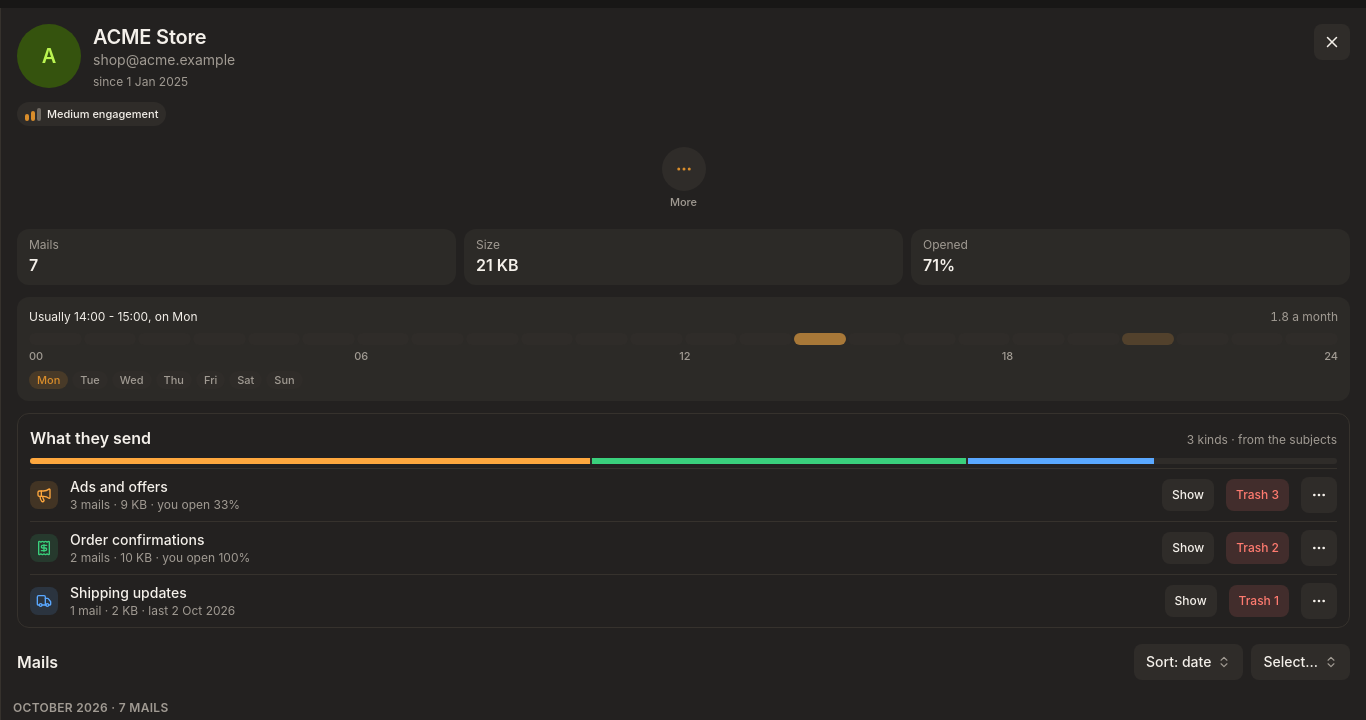
Test: Show › another kind replaces it; the same kind again turns it off
Click the button with aria-label "Show only Ads and offers". click: click(1188, 494)
box: [1162,478,1214,510]
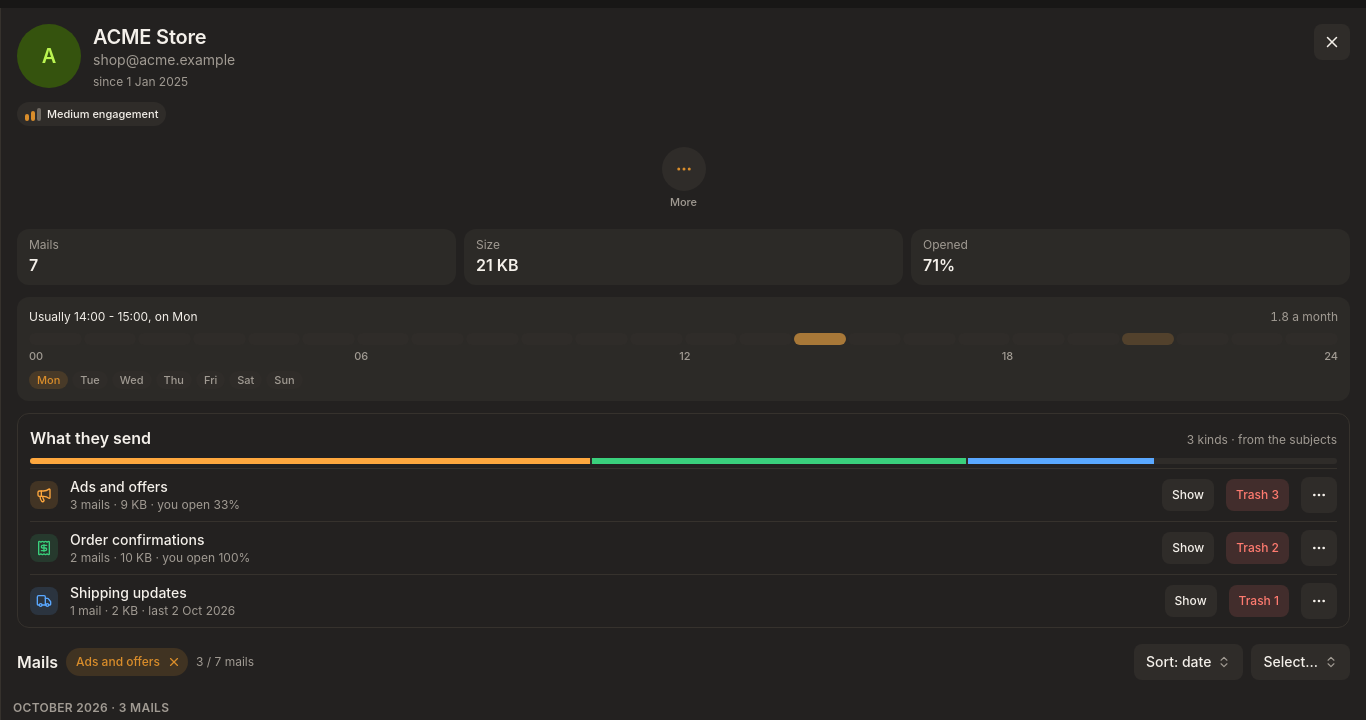
Click the button with aria-label "Show only Order confirmations". click: click(1188, 548)
box: [1162,532,1214,564]
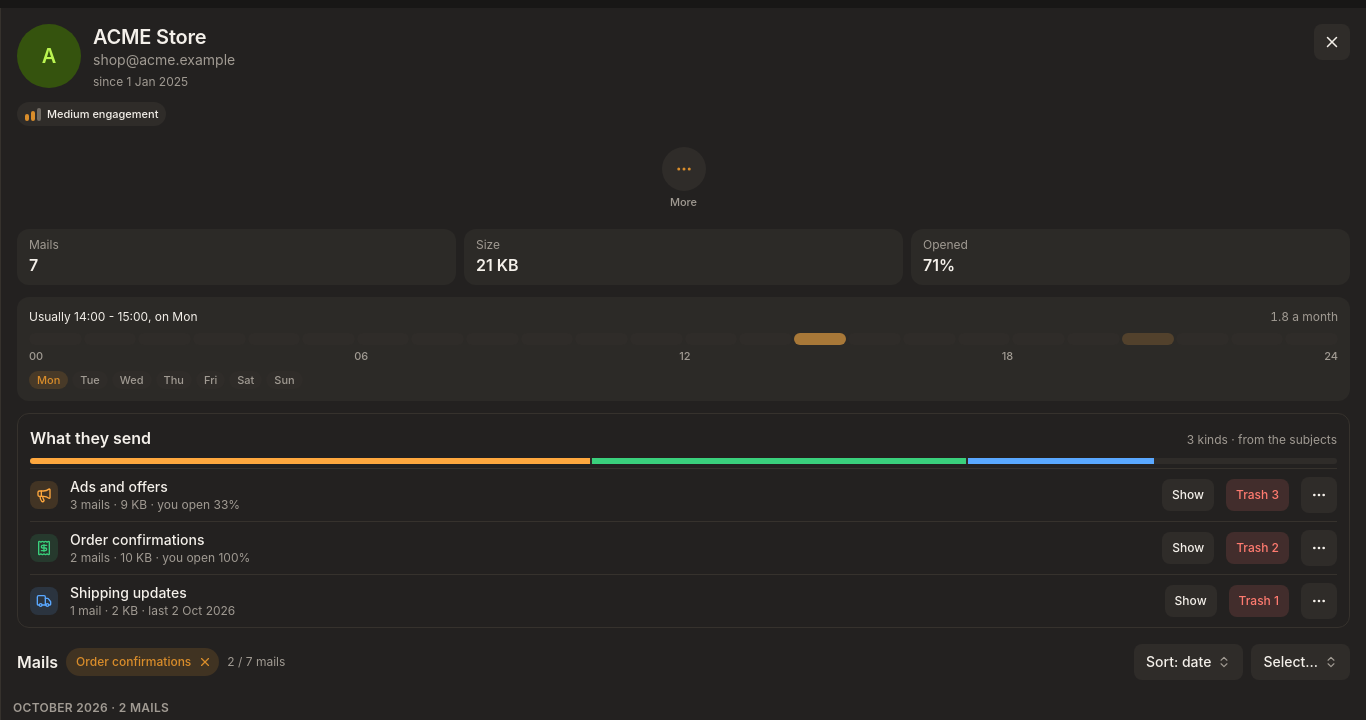
Expected: the element with test id "kind-chip" reads "Order confirmations", [76,654,191,668]
Click the button with aria-label "Show only Order confirmations". click: click(1188, 548)
box: [1162,532,1214,564]
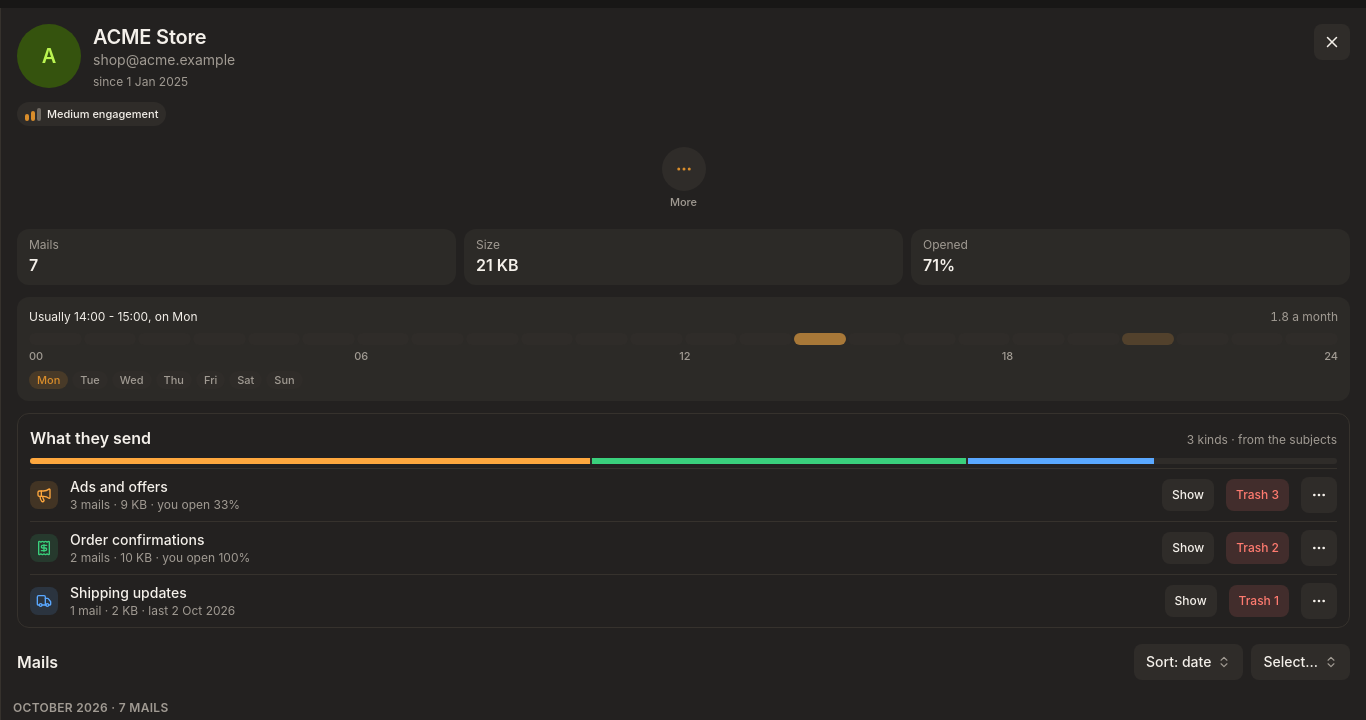
Expected: the element with test id "kind-chip" is gone
